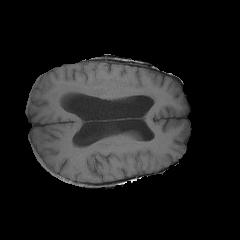glioma: (56, 77, 157, 99)
